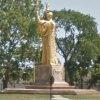Statue: (23, 4, 74, 90)
